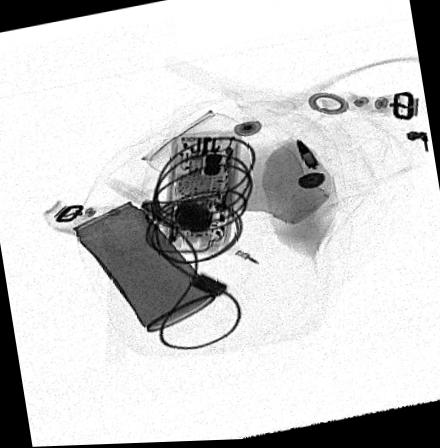Bullet: (296, 139, 319, 171)
